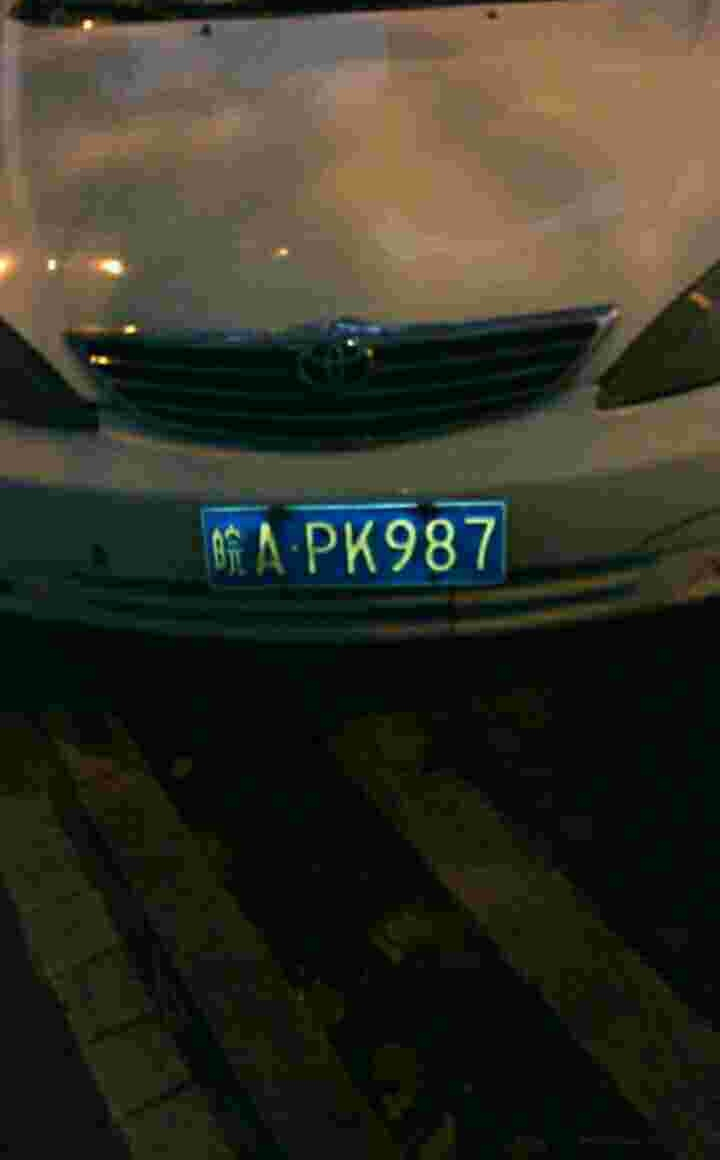license_plate: (194, 493, 513, 586)
